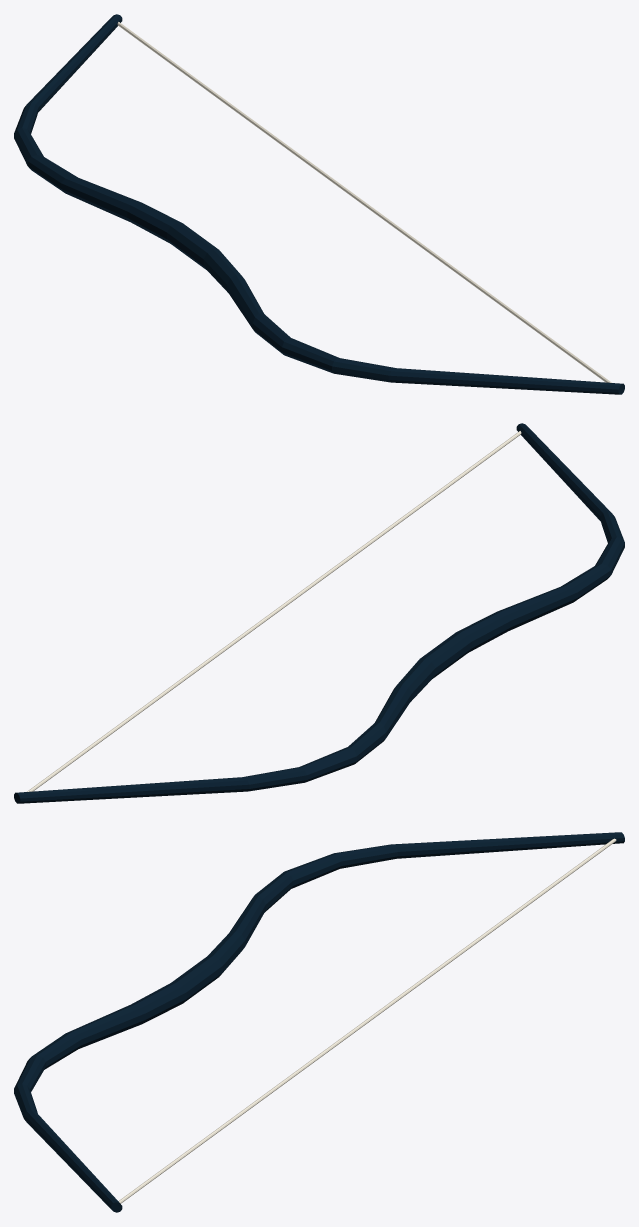
Rendered from Bow_03.fbx.
3 renders of one model, top to bottom at view 1: azimuth 30°, elevation 25°; view 2: azimuth 150°, elevation 25°; view 3: azimuth 330°, elevation 25°, orthographic.
Parts seen in each view (by area): view 1: Bow_03; view 2: Bow_03; view 3: Bow_03.
Part boxes in pixels (<box>): Bow_03: <box>14,14,624,394</box>; Bow_03: <box>14,423,624,803</box>; Bow_03: <box>14,832,624,1212</box>.
Size of the model in its own units: 34.09 by 3.29 by 137.
